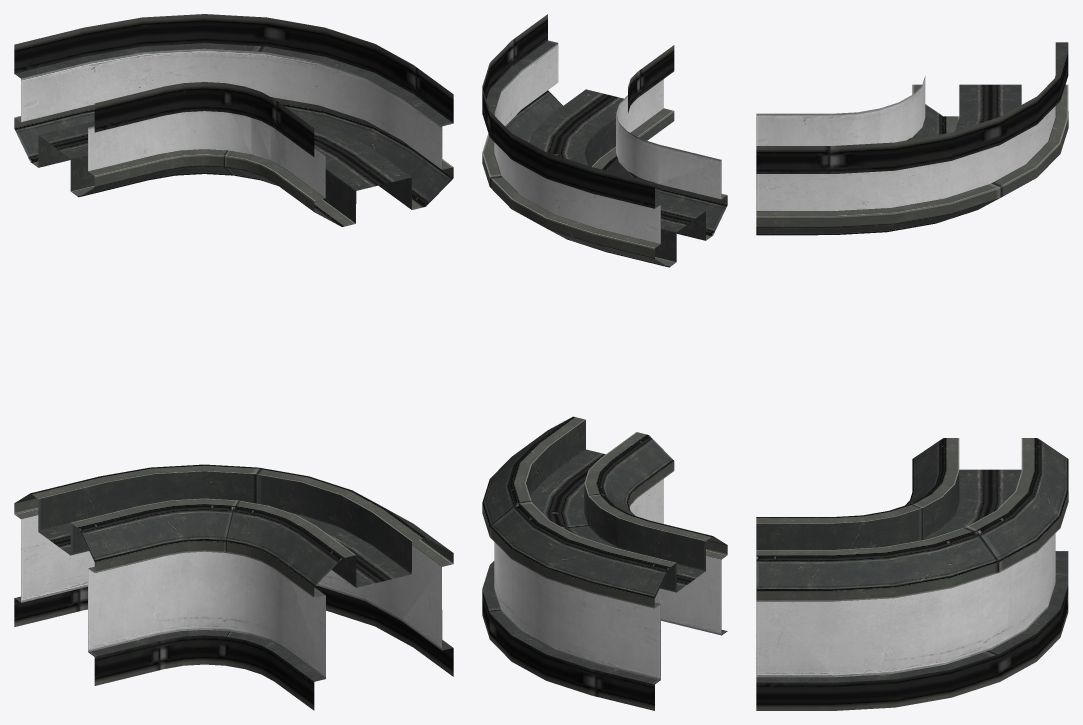
The model's file is Neon_WindowFrameBendB.FBX.
3 renders of one model, left to right at view 1: azimuth 30°, elevation 25°; view 2: azimuth 150°, elevation 25°; view 3: azimuth 270°, elevation 25°, orthographic. The views are drawn at different scales.
Parts seen in each view (by area): view 1: Neon_WindowFrameBendB; view 2: Neon_WindowFrameBendB; view 3: Neon_WindowFrameBendB.
Boxes of the visible parts, bbox=[...] form: Neon_WindowFrameBendB: bbox=[14, 14, 453, 710]; Neon_WindowFrameBendB: bbox=[482, 14, 727, 710]; Neon_WindowFrameBendB: bbox=[756, 42, 1068, 710].
Bounding box in the file's own units: 2 × 4 × 2.
